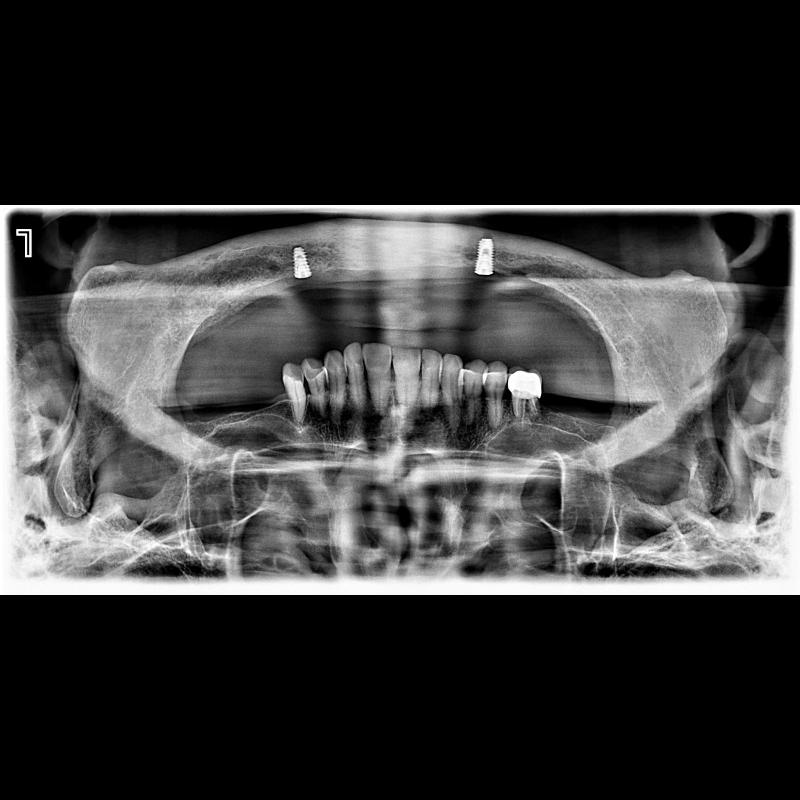osstem: (473, 238, 501, 280), (293, 243, 313, 279)
